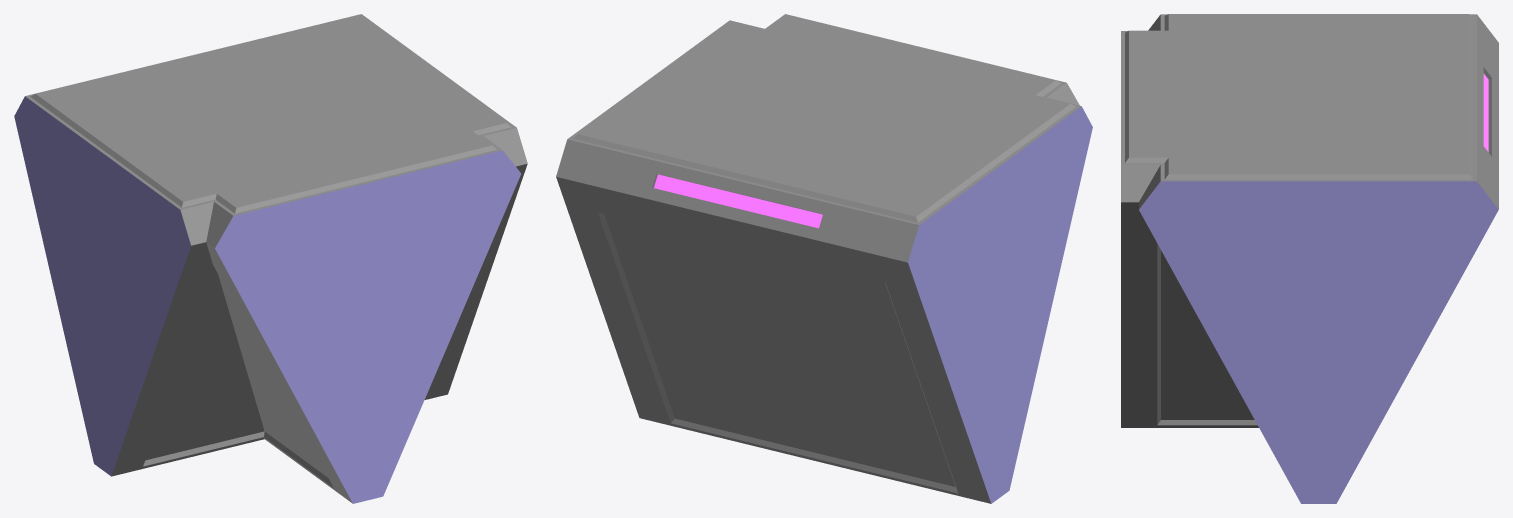
Rendered from SZ_BridgeTCross.FBX.
3 views of the same model, side by side, from view 1: azimuth 30°, elevation 25°; view 2: azimuth 150°, elevation 25°; view 3: azimuth 270°, elevation 25° (orthographic). The views are drawn at different scales.
Parts seen in each view (by area): view 1: SZ_BridgeTCross; view 2: SZ_BridgeTCross; view 3: SZ_BridgeTCross.
Part boxes in pixels (x1,y1,x2,y2): SZ_BridgeTCross: (14,14,527,503); SZ_BridgeTCross: (556,14,1092,503); SZ_BridgeTCross: (1121,14,1498,503).
Size of the model in its own units: 100 by 95.53 by 91.06.
